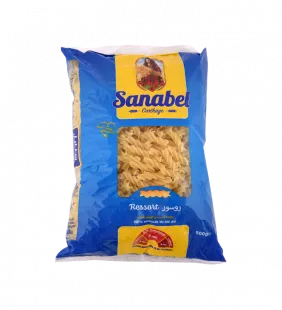SANABEL CARTHAGE: (45, 35, 236, 276)
